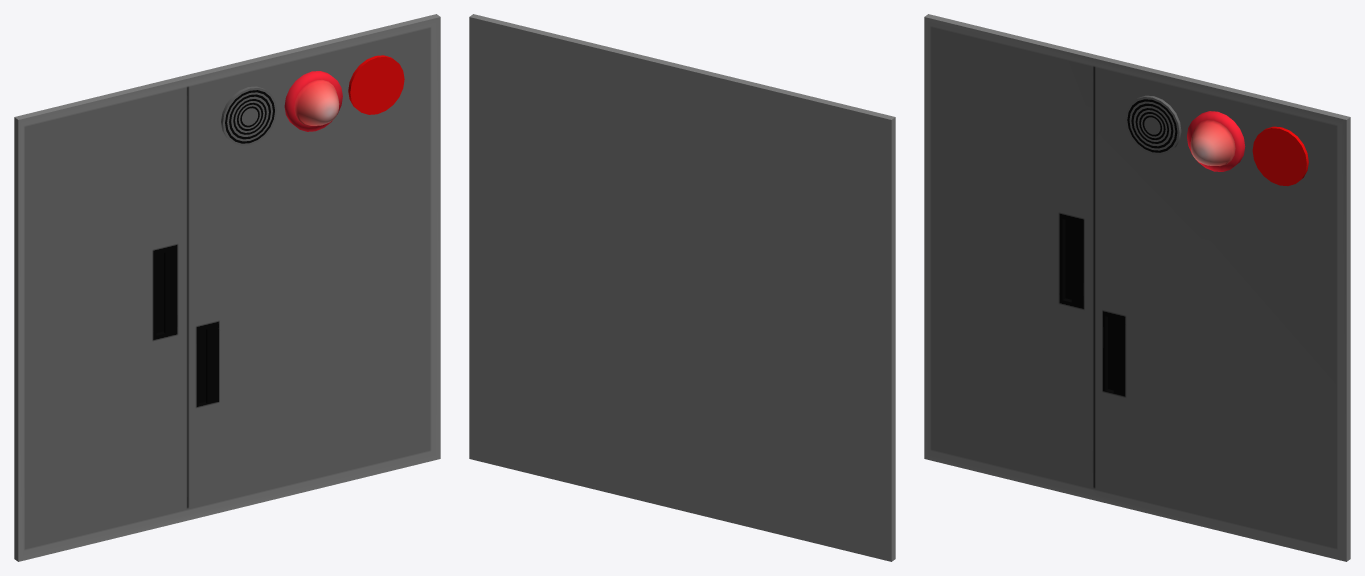
The model's file is Pannello_Controllo.fbx.
The picture shows the model from 3 angles, left to right: view 1: azimuth 30°, elevation 25°; view 2: azimuth 150°, elevation 25°; view 3: azimuth 330°, elevation 25°; orthographic projection.
Visible parts, largest first — view 1: Sportelli, Luce, polySurface2, Altoparlante; view 2: Sportelli; view 3: Sportelli, Luce, polySurface2, Altoparlante.
Boxes of the visible parts, left/top/right/bottom form: Sportelli: left=14, top=14, right=440, bottom=561; Luce: left=284, top=71, right=342, bottom=131; polySurface2: left=348, top=55, right=404, bottom=114; Altoparlante: left=221, top=86, right=277, bottom=145; Sportelli: left=469, top=14, right=895, bottom=561; Sportelli: left=924, top=14, right=1350, bottom=561; Luce: left=1187, top=111, right=1245, bottom=171; polySurface2: left=1252, top=126, right=1308, bottom=186; Altoparlante: left=1125, top=95, right=1181, bottom=154.
Size of the model in its own units: 1.2 by 1.2 by 0.1024.
